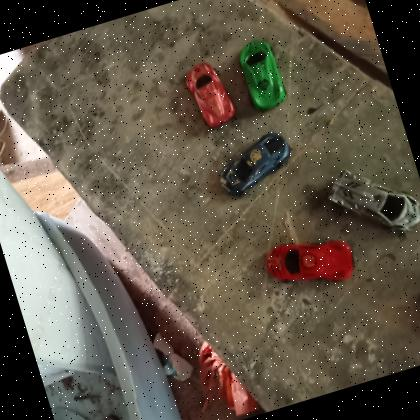Car: (320, 149, 420, 251), (260, 224, 361, 302), (207, 125, 302, 203), (232, 34, 294, 115), (180, 56, 240, 134)
